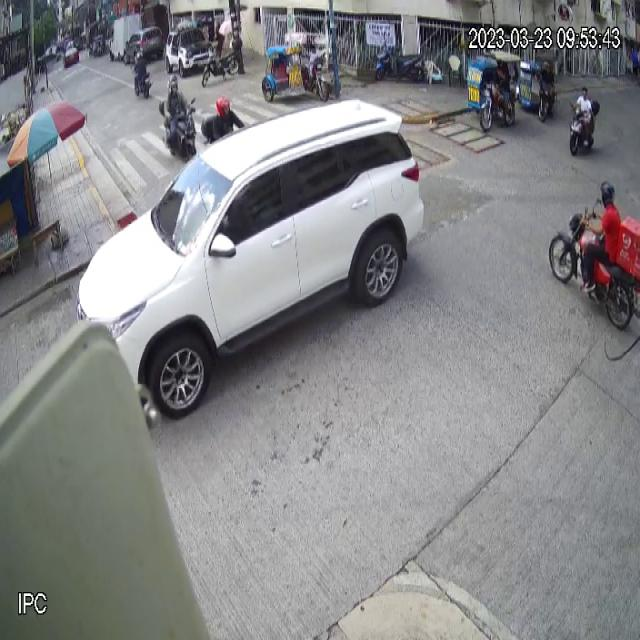Car: (75, 94, 426, 419)
Motorcycle: (548, 195, 640, 331)
Tricycle: (261, 31, 331, 103), (467, 50, 521, 132)
